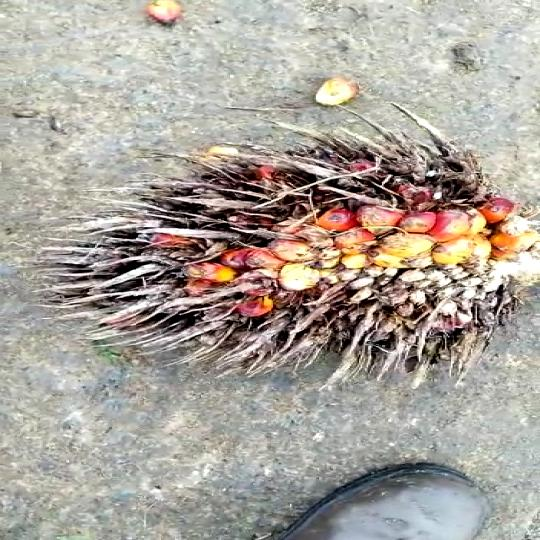terlalu masak: (59, 103, 540, 420)
